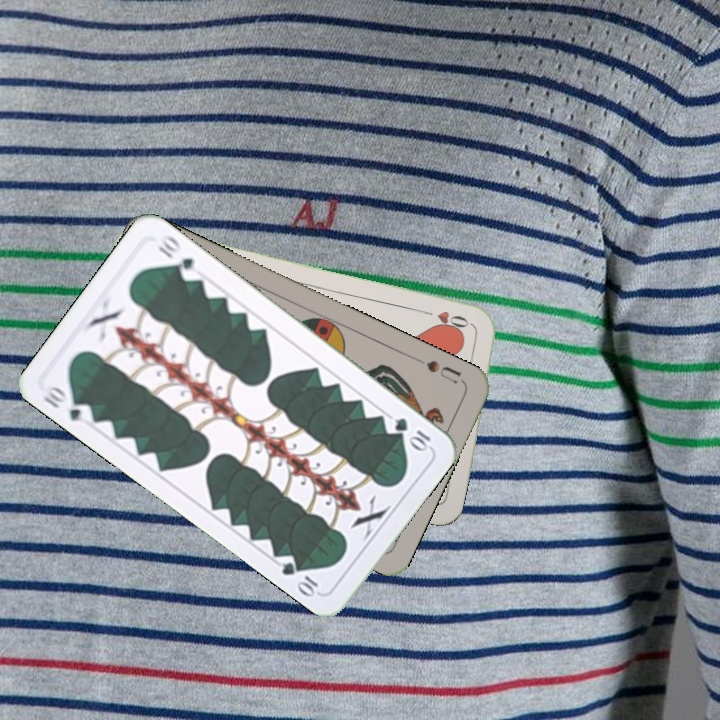G10: (37, 382, 96, 427), (390, 413, 433, 453)
HO: (420, 306, 477, 331)
SU: (410, 355, 464, 387)
